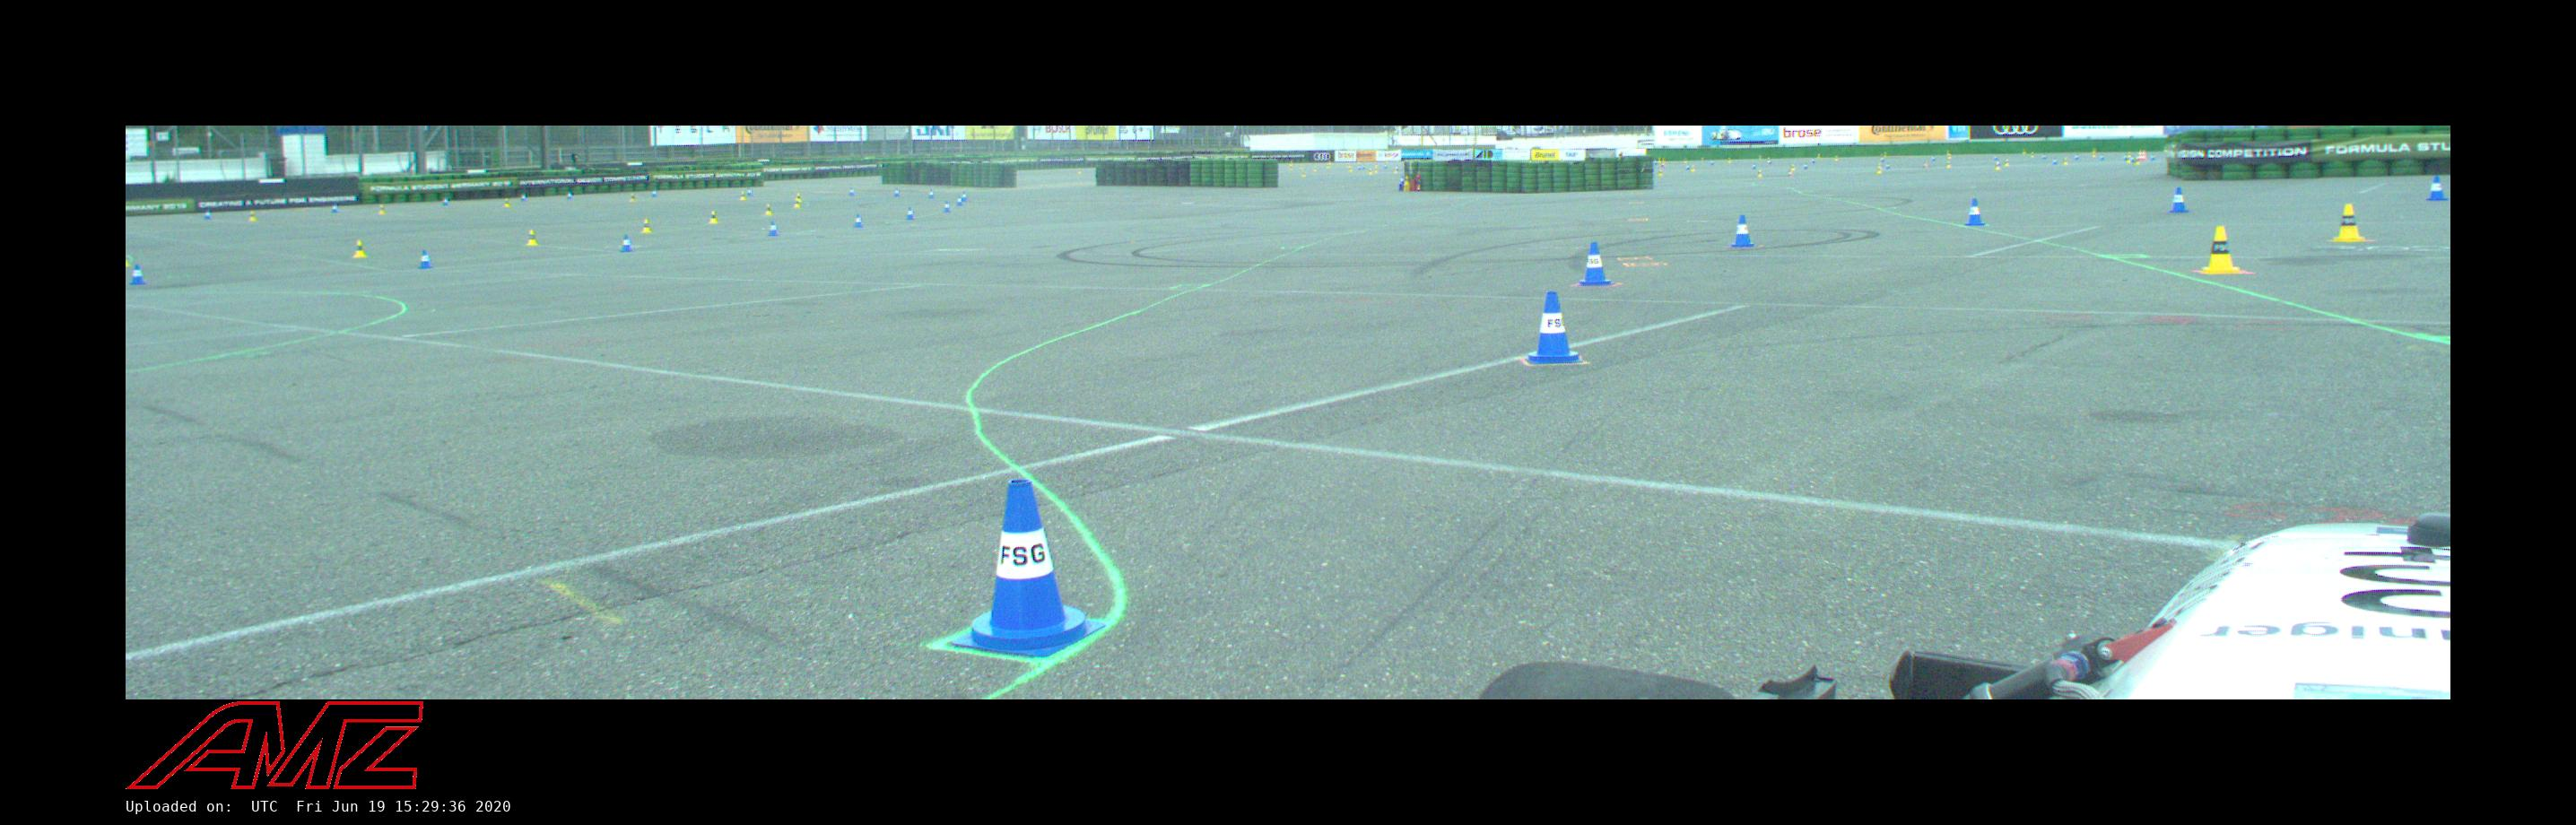blue_cone: (948, 480, 1106, 656), (1525, 291, 1584, 363), (1579, 242, 1613, 284), (1732, 215, 1755, 247), (2427, 176, 2448, 200), (1965, 199, 1985, 225), (2170, 187, 2188, 212), (131, 265, 145, 284), (619, 235, 632, 251), (421, 250, 432, 268), (767, 222, 779, 237), (905, 207, 913, 220), (854, 214, 862, 227), (943, 200, 951, 212), (204, 210, 210, 219), (330, 204, 337, 212), (961, 192, 968, 200), (928, 191, 935, 199), (848, 187, 854, 196), (442, 197, 447, 207), (894, 189, 900, 196), (2052, 156, 2057, 164), (748, 189, 752, 196), (567, 192, 572, 199), (1751, 163, 1756, 169), (652, 189, 657, 196), (521, 194, 526, 200), (958, 199, 961, 205), (1804, 163, 1807, 169)
yellow_cone: (2200, 227, 2241, 273), (2333, 204, 2366, 242), (353, 240, 366, 258), (526, 230, 537, 247), (708, 212, 718, 224), (642, 219, 651, 232), (248, 210, 256, 222), (503, 197, 511, 207), (766, 204, 772, 215), (795, 192, 802, 202), (378, 204, 384, 214), (793, 199, 800, 209), (629, 194, 636, 202), (1996, 161, 2001, 171), (741, 192, 746, 200), (1876, 166, 1881, 174), (2004, 159, 2009, 166), (2063, 158, 2068, 164), (1690, 164, 1695, 171), (1947, 161, 1950, 168), (1758, 169, 1761, 176), (1791, 164, 1794, 171)
